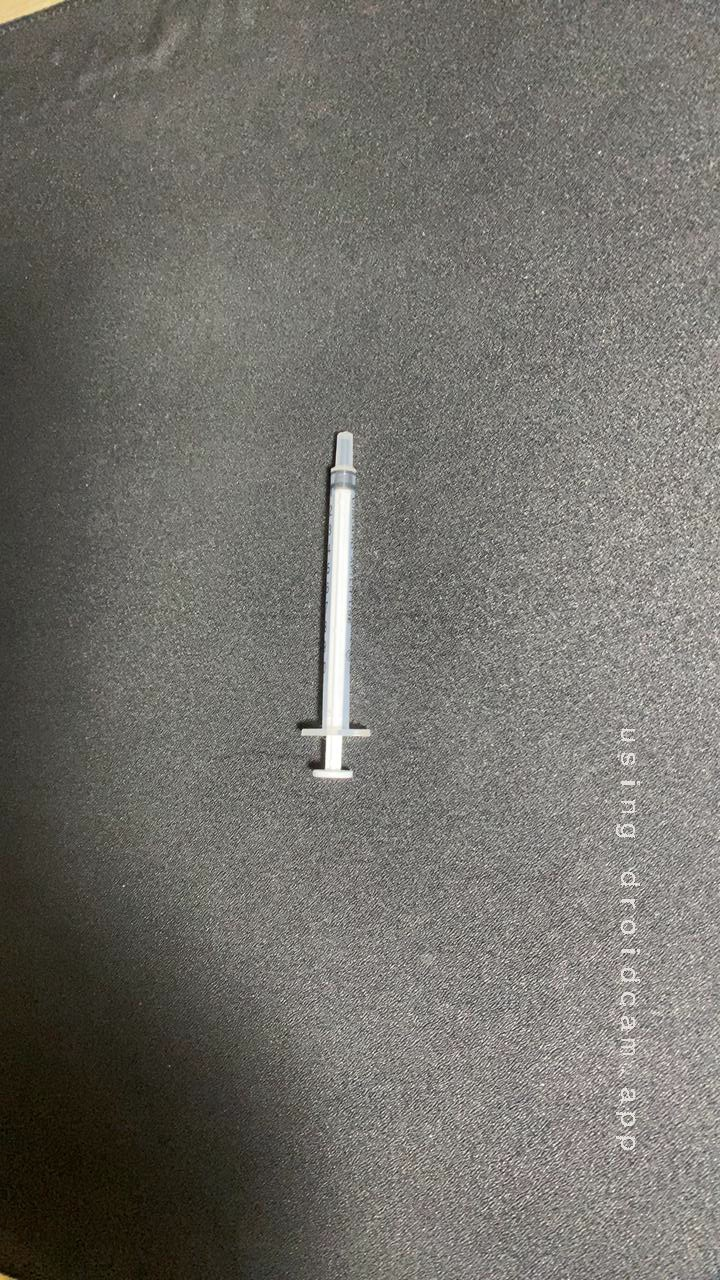syringe: (267, 436, 395, 792)
